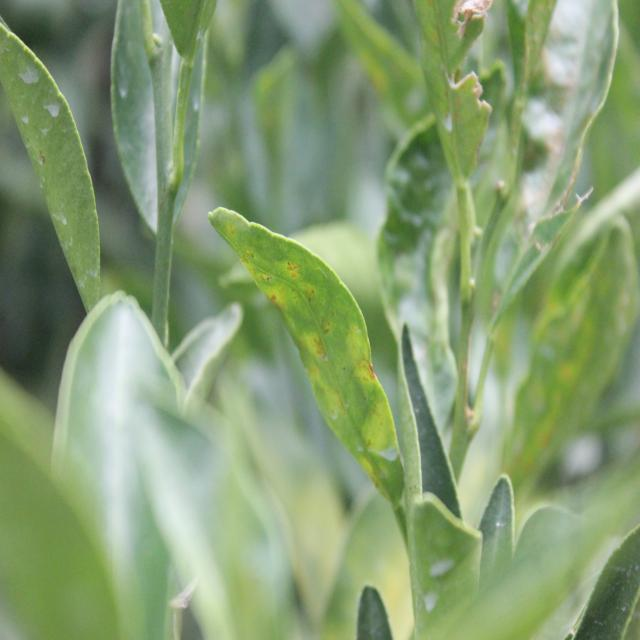canker: (226, 221, 398, 484)
